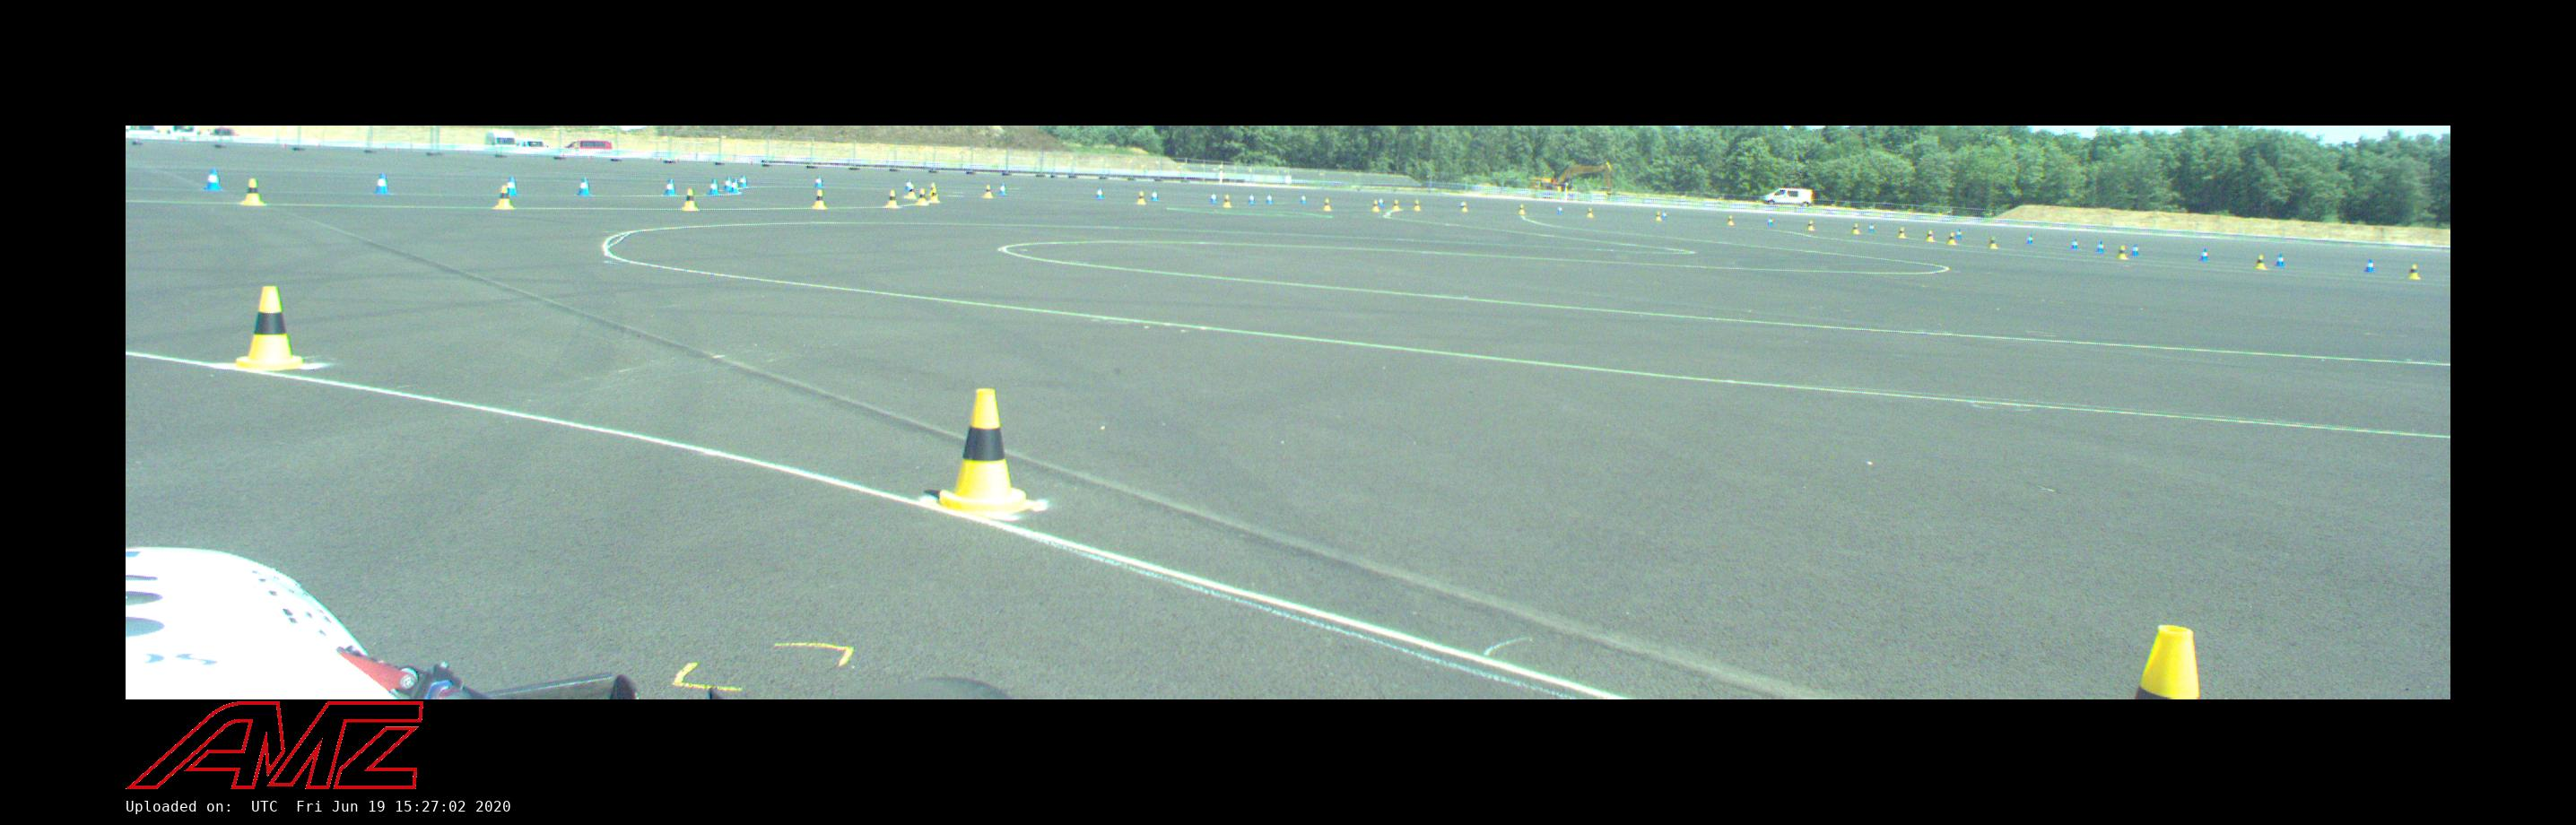blue_cone: (205, 169, 223, 191), (373, 174, 391, 195), (503, 177, 519, 195), (577, 178, 593, 195), (708, 178, 719, 195), (2273, 253, 2285, 267), (2364, 258, 2375, 274), (737, 175, 749, 189), (730, 178, 741, 194), (2197, 249, 2210, 262), (664, 179, 674, 194), (2095, 241, 2105, 253), (723, 178, 731, 191), (1150, 190, 1159, 202), (998, 184, 1007, 195), (814, 176, 823, 187), (2130, 244, 2138, 256), (1096, 187, 1104, 199), (2070, 239, 2078, 249), (1299, 194, 1308, 203), (1209, 192, 1216, 203), (2026, 234, 2033, 245), (906, 179, 913, 190), (1266, 194, 1273, 204), (1247, 194, 1254, 203), (1556, 205, 1562, 214), (1378, 197, 1384, 206), (1955, 230, 1961, 239), (1659, 212, 1667, 219), (1768, 216, 1772, 226), (1868, 222, 1873, 231)
yellow_cone: (933, 389, 1039, 517), (235, 288, 303, 367), (2134, 626, 2199, 699), (241, 178, 265, 204), (493, 187, 516, 209), (681, 189, 698, 210), (2405, 264, 2421, 280), (813, 190, 826, 208), (2251, 255, 2267, 269), (886, 190, 899, 206), (917, 188, 929, 204), (930, 188, 940, 203), (1223, 195, 1232, 207), (1136, 192, 1145, 204), (1989, 236, 1997, 248), (2118, 246, 2127, 258), (908, 187, 917, 198), (1324, 198, 1332, 211), (929, 183, 938, 194), (985, 186, 993, 197), (1371, 201, 1379, 212), (1898, 228, 1906, 238), (1392, 200, 1399, 211), (1927, 230, 1934, 241), (1948, 233, 1955, 244), (1414, 200, 1421, 210), (1519, 204, 1526, 213), (1460, 203, 1467, 212), (1587, 208, 1594, 217), (1654, 212, 1661, 221), (1807, 220, 1814, 230), (1852, 224, 1858, 233), (1727, 215, 1733, 224)
